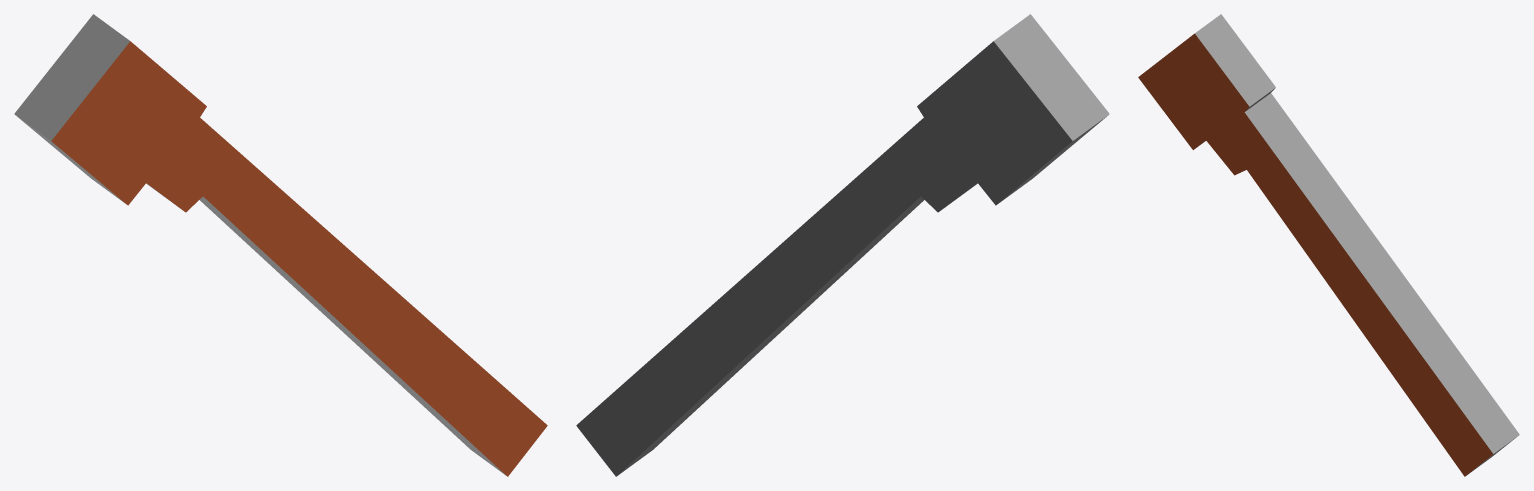
Rendered from construction_5513_assumed_A_Casa_h6m.obj.
3 views of the same model, side by side, from view 1: azimuth 30°, elevation 25°; view 2: azimuth 150°, elevation 25°; view 3: azimuth 330°, elevation 25° (orthographic). The views are drawn at different scales.
Parts seen in each view (by area): view 1: construction_5513_assumed_A_Casa; view 2: construction_5513_assumed_A_Casa; view 3: construction_5513_assumed_A_Casa.
Boxes of the visible parts, left/top/right/bottom form: construction_5513_assumed_A_Casa: left=14, top=14, right=547, bottom=476; construction_5513_assumed_A_Casa: left=576, top=14, right=1109, bottom=476; construction_5513_assumed_A_Casa: left=1138, top=14, right=1519, bottom=476.
Bounding box in the file's own units: 46.44 × 47.17 × 6.
